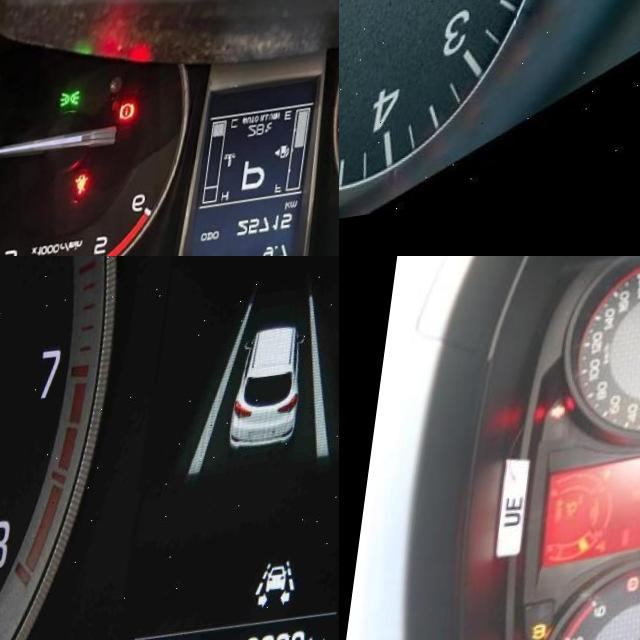Seat Belt: (78, 174, 98, 205)
